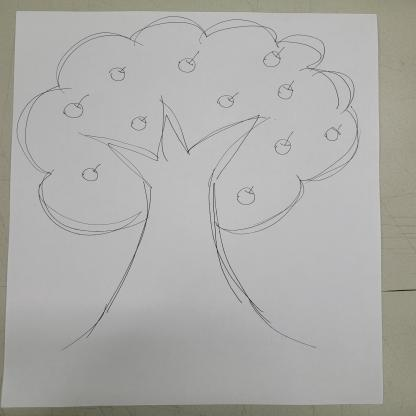apple: (60, 100, 87, 121), (235, 186, 259, 207), (274, 82, 296, 102), (174, 57, 199, 74), (76, 165, 100, 182), (262, 50, 284, 68), (127, 115, 150, 132), (273, 139, 294, 157), (108, 64, 127, 83), (216, 94, 236, 109), (326, 127, 342, 141)
branch_sharp: (83, 98, 269, 174)
crown_cloud: (17, 12, 366, 235)
trunk_reflex: (107, 235, 264, 312)
